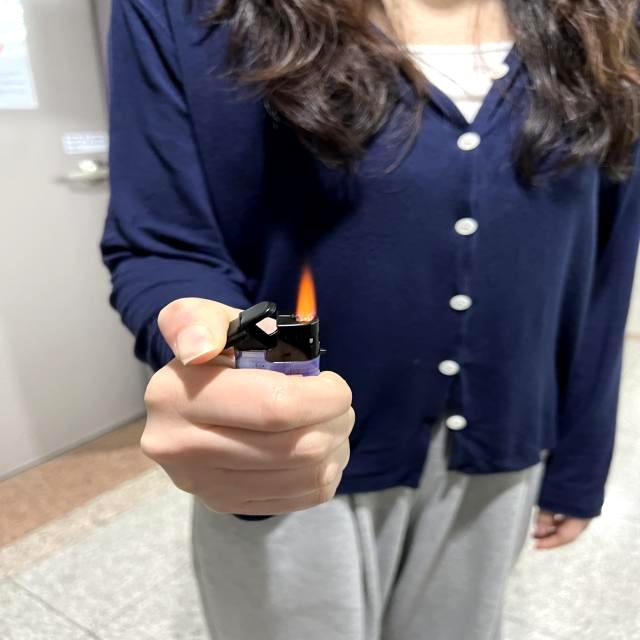fire: (296, 268, 316, 320)
